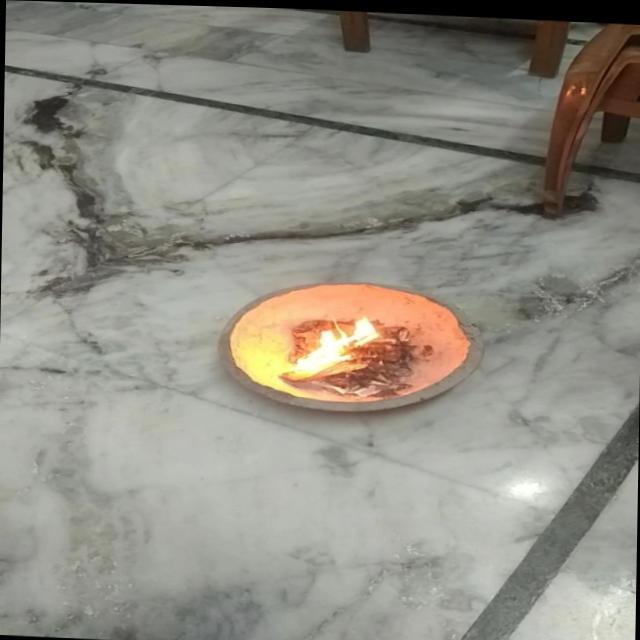fire: (280, 310, 386, 376)
